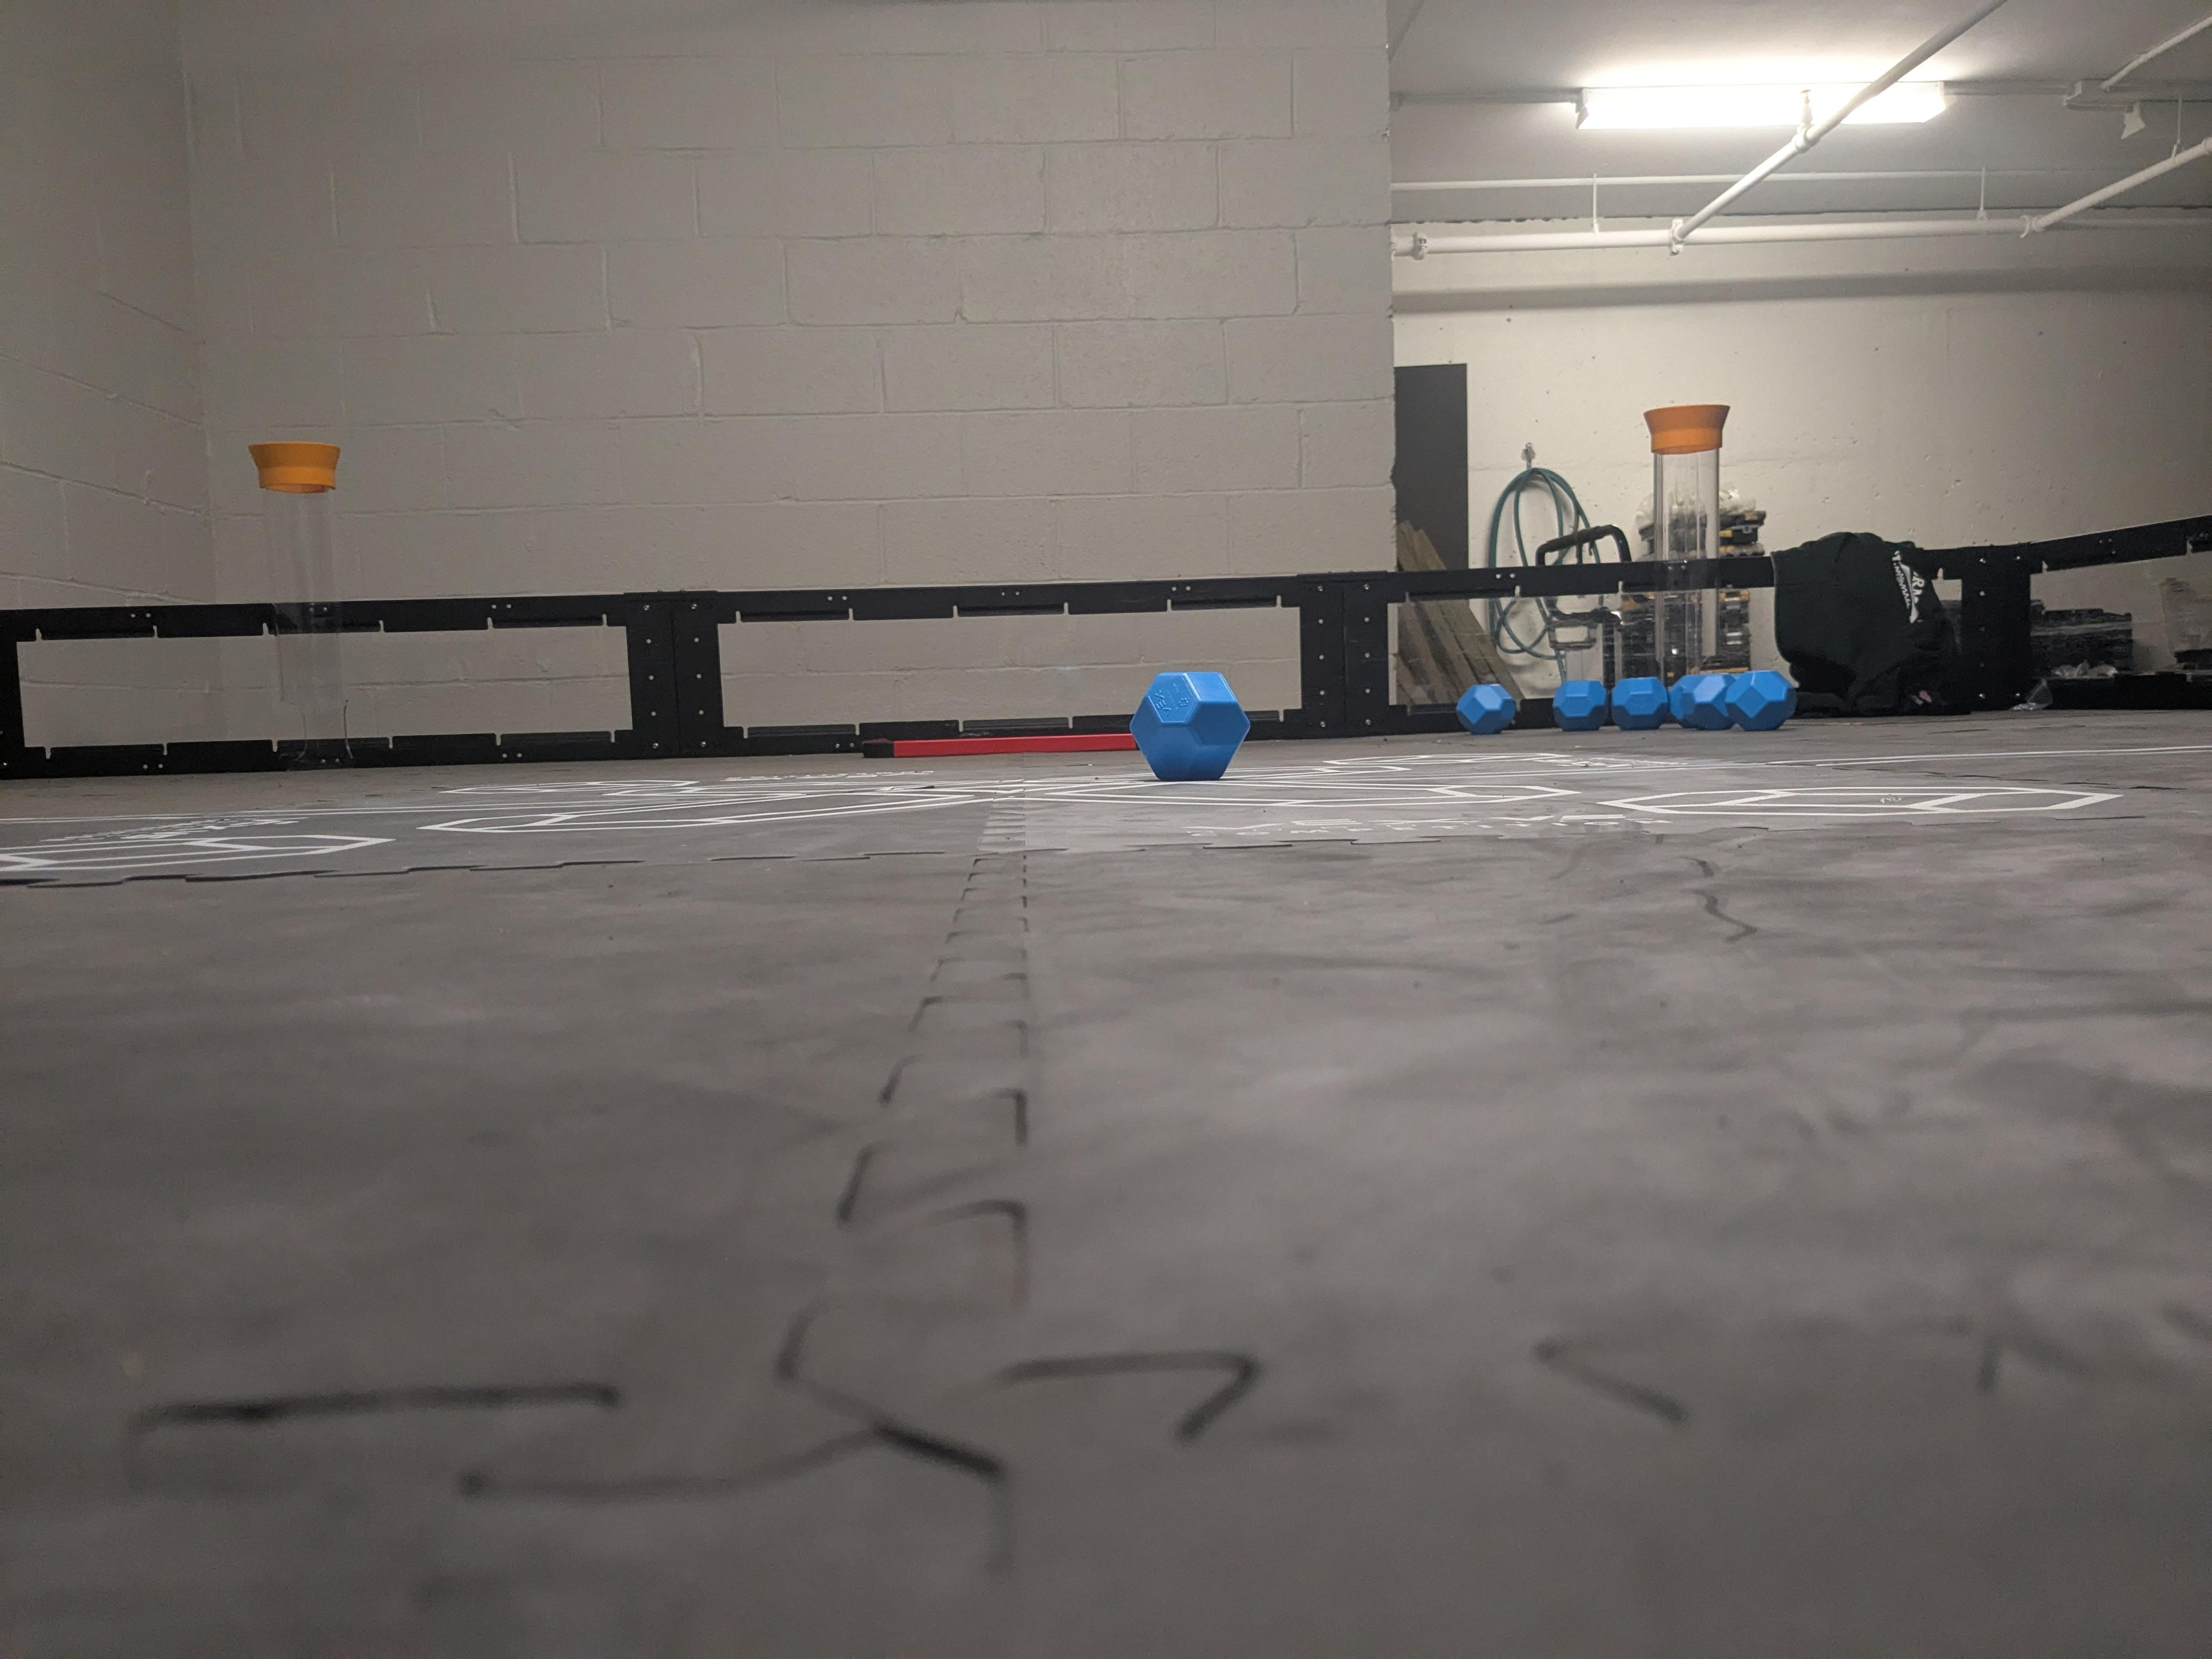Vex-Pieces-BLUE: (1137, 671, 1244, 774), (1658, 671, 1792, 727), (1609, 678, 1670, 732), (1454, 685, 1515, 735), (1552, 680, 1606, 732)
